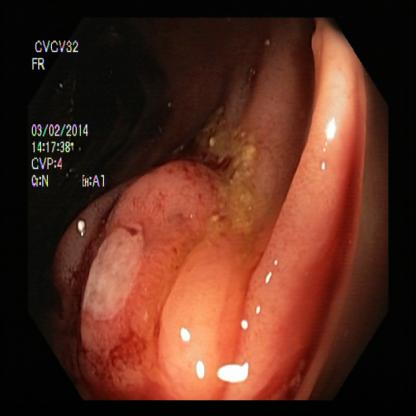Labels: (28, 31, 110, 196)
Polyps: (167, 255, 238, 395), (86, 225, 154, 349), (128, 162, 216, 238)
